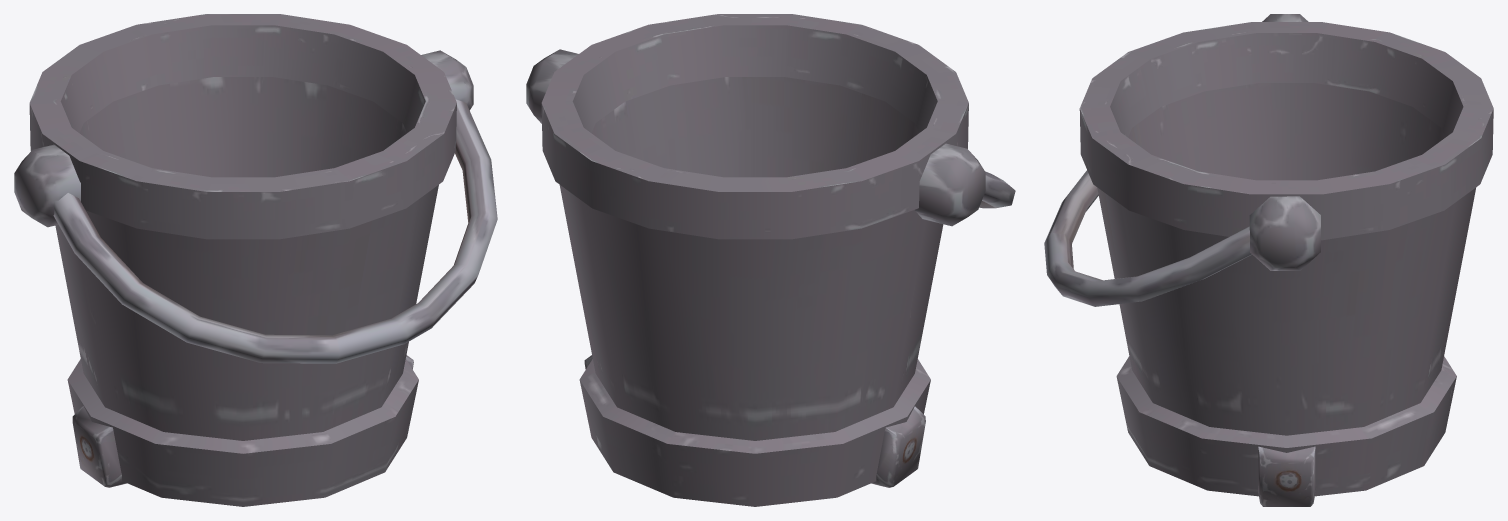
The model's file is Bucket_Metal.glb.
3 renders of one model, left to right at view 1: azimuth 30°, elevation 25°; view 2: azimuth 150°, elevation 25°; view 3: azimuth 270°, elevation 25°, orthographic. The views are drawn at different scales.
Visible parts, largest first — view 1: Bucket_Metal; view 2: Bucket_Metal; view 3: Bucket_Metal.
Boxes of the visible parts, x1,y1,x2,y2 form: Bucket_Metal: (14,14,497,506); Bucket_Metal: (526,14,1015,506); Bucket_Metal: (1044,14,1493,506).
Bounding box in the file's own units: 0.4854 × 0.3651 × 0.449.
Materials: 1 (1 with a texture image).
